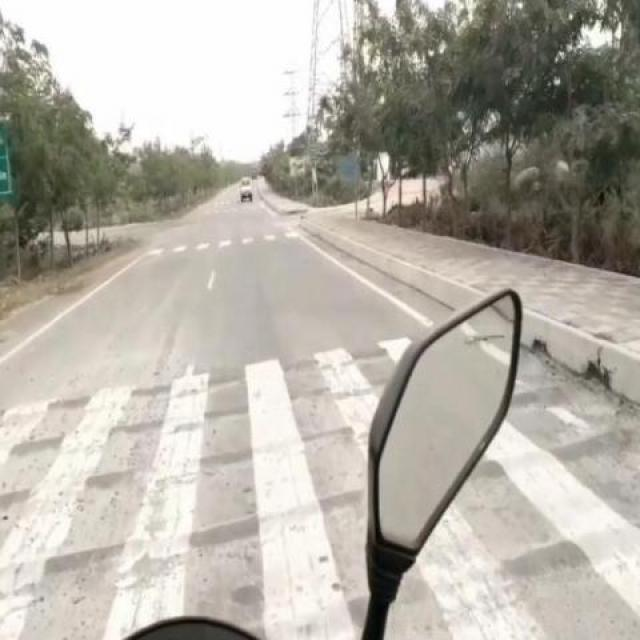Speed Bump: (0, 479, 367, 589), (0, 422, 365, 512), (0, 342, 375, 420), (5, 382, 368, 434), (464, 498, 638, 582), (501, 422, 639, 480), (516, 364, 584, 414)
